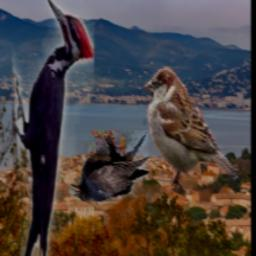Crow: (70, 130, 150, 201)
Sparrow: (146, 68, 240, 190)
Woodpecker: (13, 0, 95, 256)
